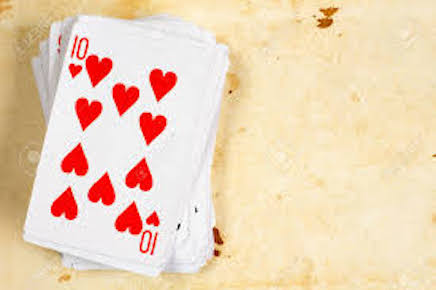TenOfHearts: (24, 9, 233, 264)
